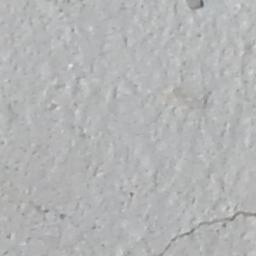Hairline-Crack: (156, 206, 256, 256)
